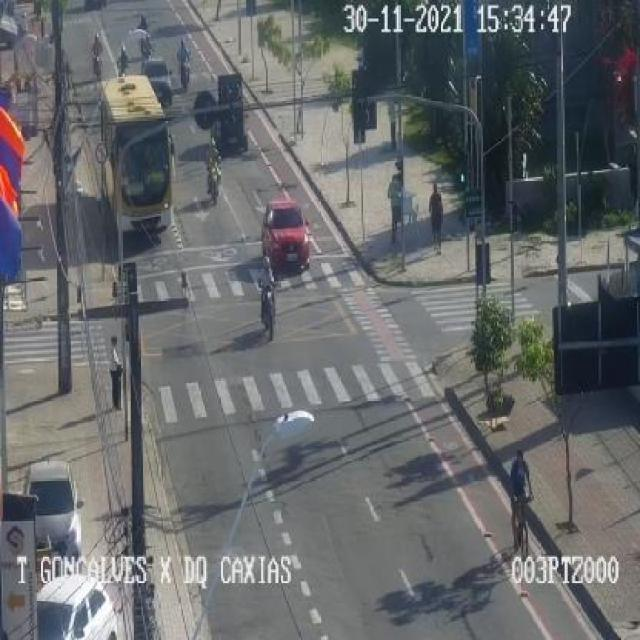Bus: (99, 72, 178, 246)
Car: (9, 560, 130, 640), (17, 464, 84, 572), (254, 191, 316, 278), (142, 56, 170, 104)
Cycle: (500, 440, 539, 573), (258, 247, 277, 339), (176, 35, 203, 90), (205, 130, 220, 205), (90, 29, 108, 80), (136, 16, 157, 59), (111, 44, 130, 74)
